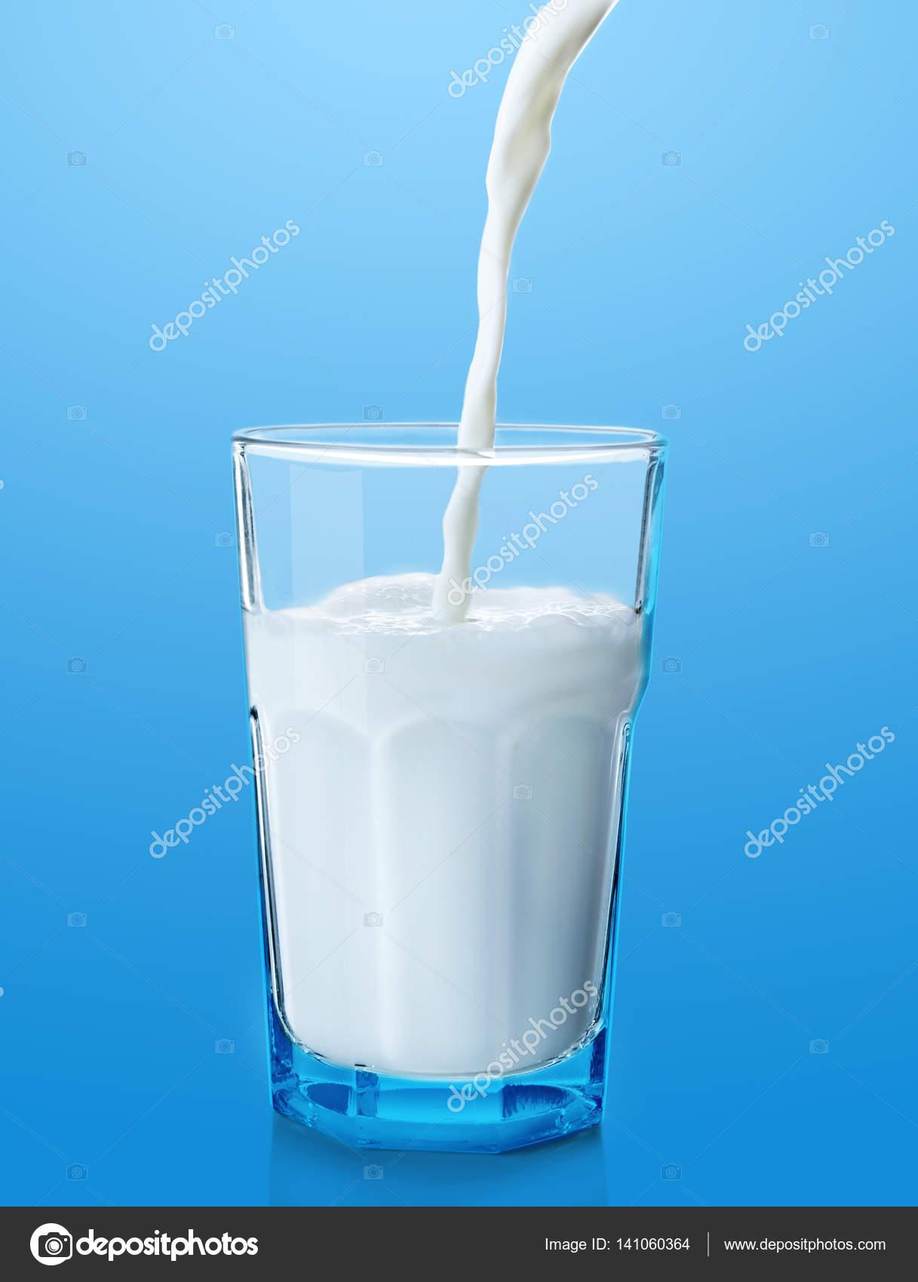produk_susu: (257, 469, 612, 1117)
